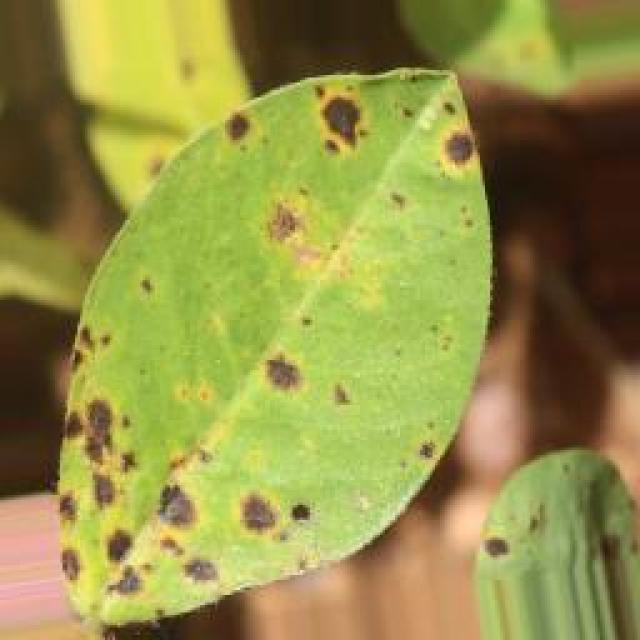Yellowish: (39, 60, 626, 610)
